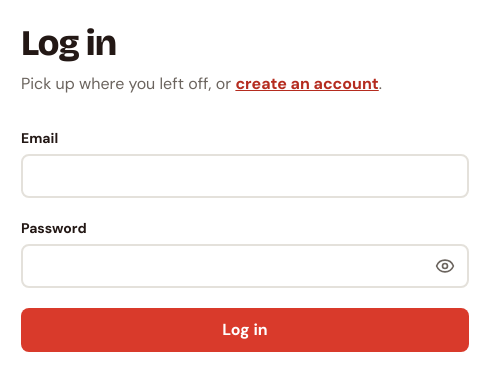
Test: Login page › rejects a malformed email
This screenshot has width=491, height=381.
In the field labelled "Email": (245, 176) [21, 154, 469, 198], type "not-an-email"
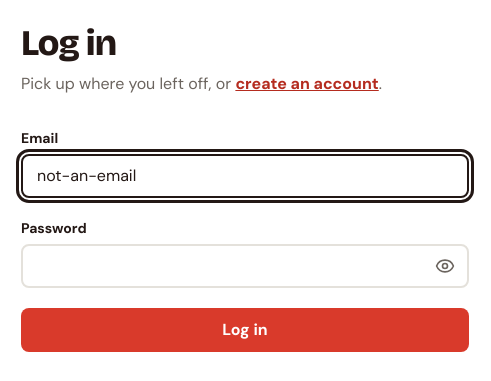
In the password field labelled "Password": (245, 266) [21, 244, 469, 288], type "Passw0rd1"
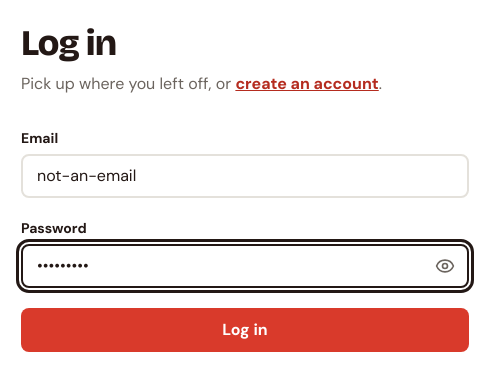
Click the button "Log in": (245, 330) [21, 308, 469, 352]
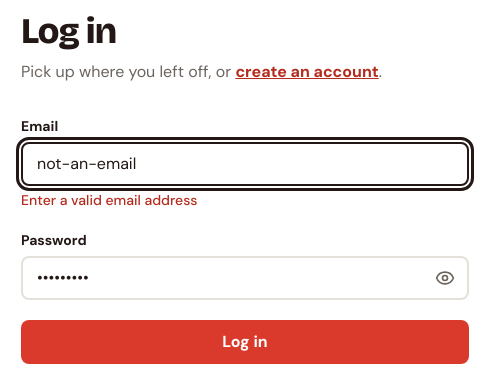
Expected: the text "Enter a valid email address" is shown, [21, 191, 198, 209]
